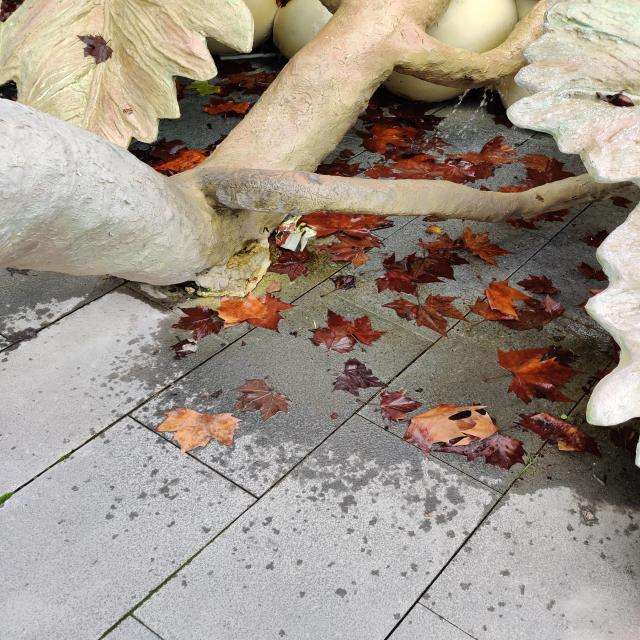litter: (267, 209, 319, 256)
